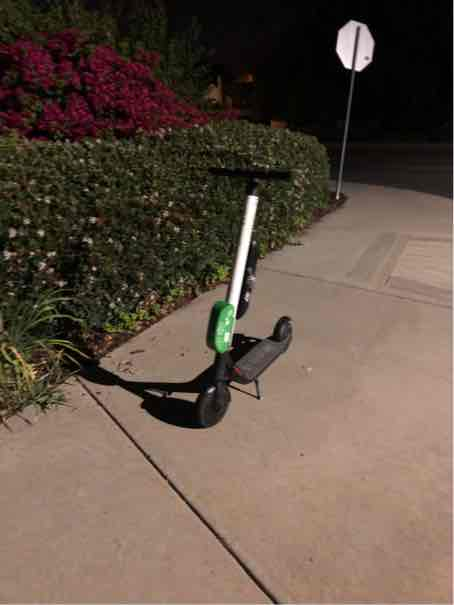scooter: (185, 160, 317, 440)
